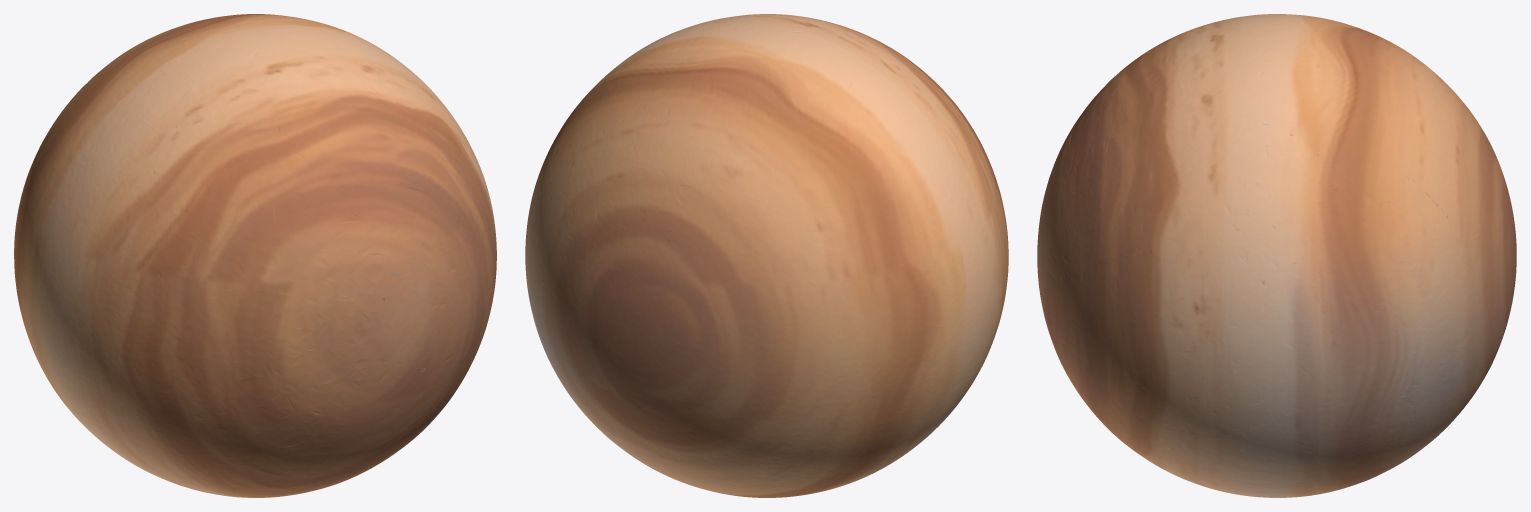
Rendered from planet_22.glb.
3 views of the same model, side by side, from view 1: azimuth 30°, elevation 25°; view 2: azimuth 150°, elevation 25°; view 3: azimuth 270°, elevation 25° (orthographic).
Parts seen in each view (by area): view 1: geometry_0; view 2: geometry_0; view 3: geometry_0.
Boxes of the visible parts, left/top/right/bottom form: geometry_0: left=14, top=14, right=496, bottom=497; geometry_0: left=525, top=14, right=1008, bottom=497; geometry_0: left=1037, top=14, right=1516, bottom=497.
Size of the model in its own units: 0.2472 by 0.2474 by 0.2451.
1 material, 1 textured.
